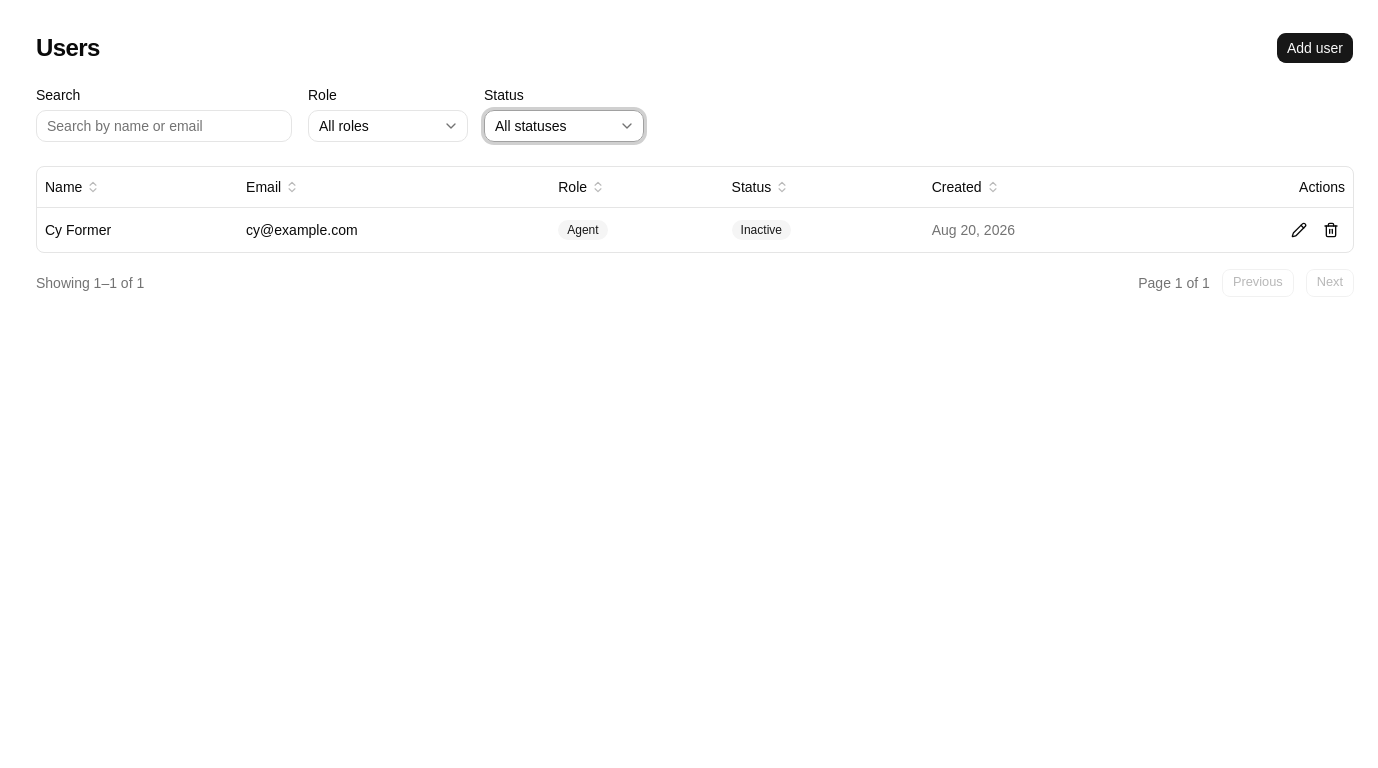
Test: UsersPage › filters by status through the select
Press Arrowdown
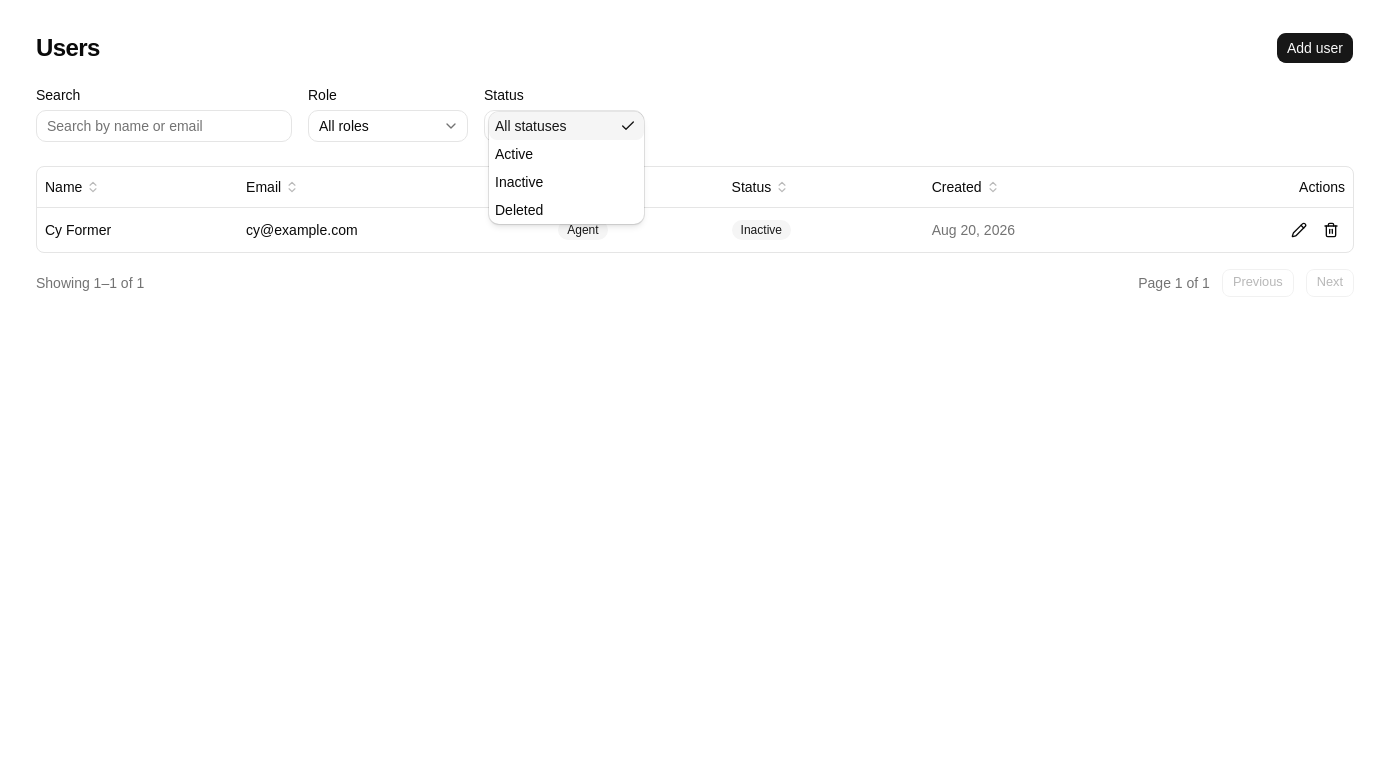
Click the option "Inactive" at (519, 182), box [495,174,543,190]
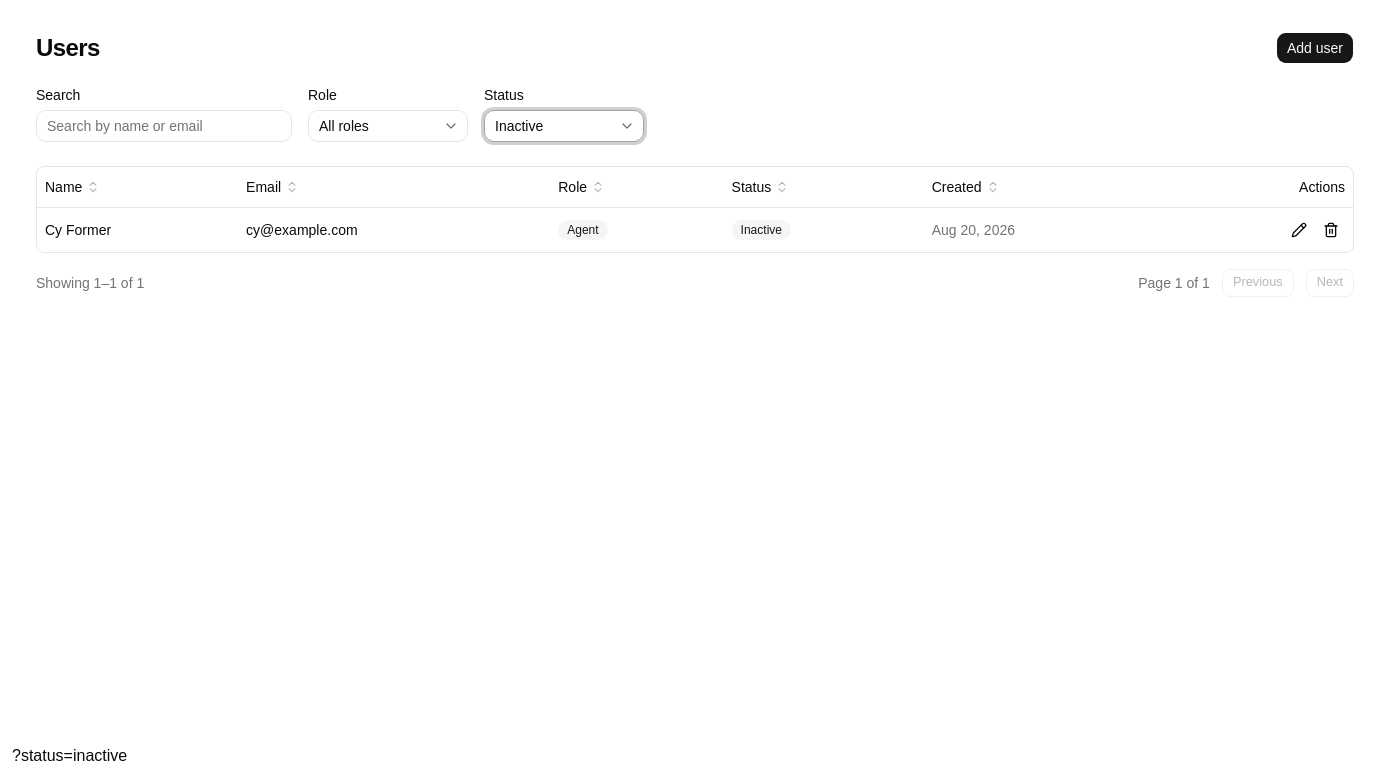
Check: the text with test id "location-search" reads "?status=inactive", box [12,747,127,764]
